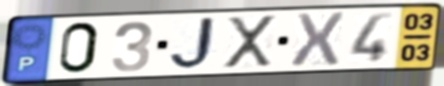0: (56, 20, 101, 76)
3: (110, 19, 155, 73)
4: (348, 11, 392, 65)
J: (167, 15, 223, 73)
X: (288, 11, 347, 70), (223, 13, 277, 71)
